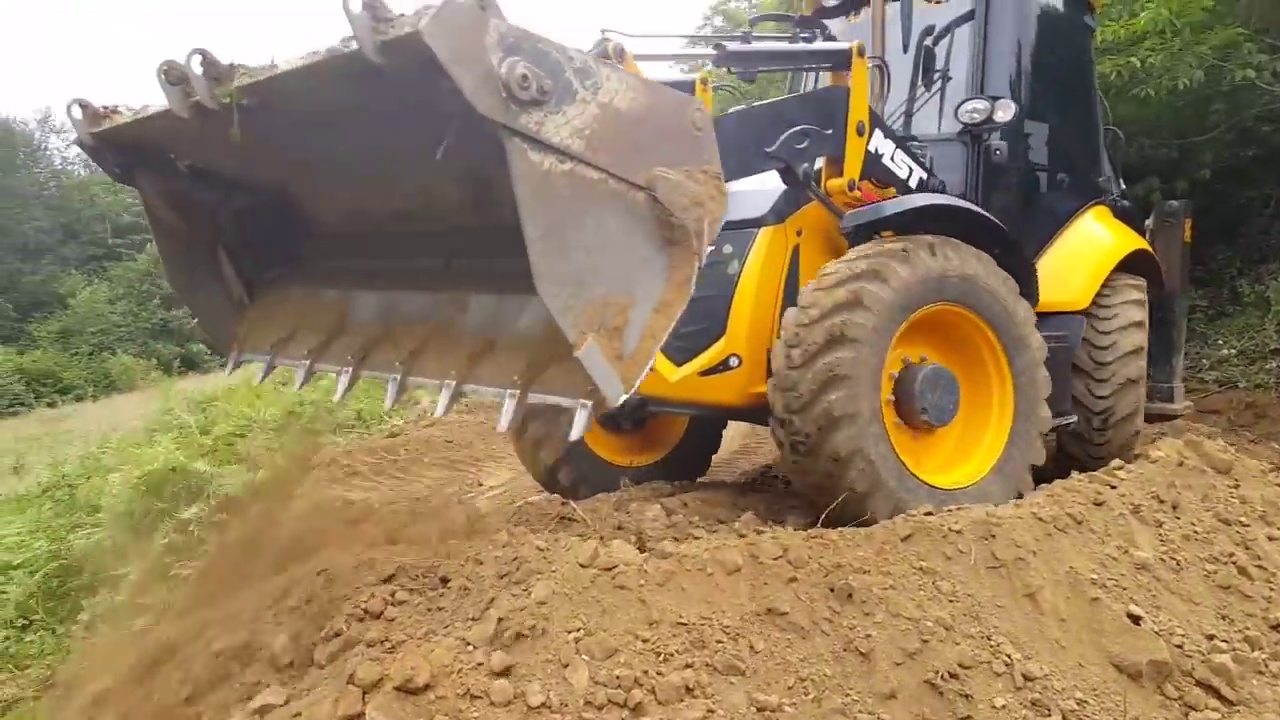wheel loader: (71, 1, 1196, 528)
